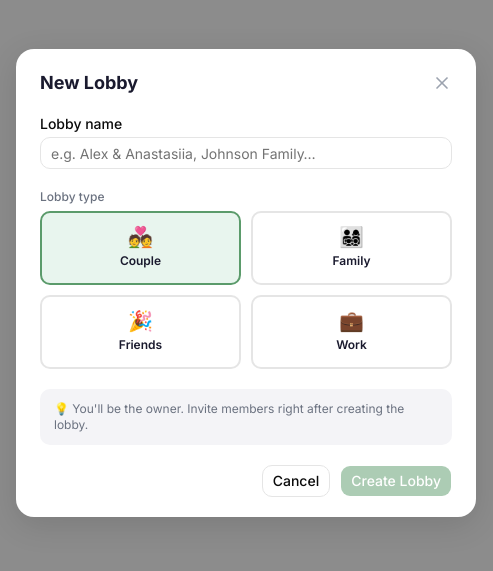
Test: CreateLobbyModal › shows an inline error and keeps the modal open when the name is rejected (400)
The width and height of the screenshot is (493, 571).
Step 1. Type "   ok   " into the field labelled "Lobby name" → (246, 153), box [40,137,452,169]
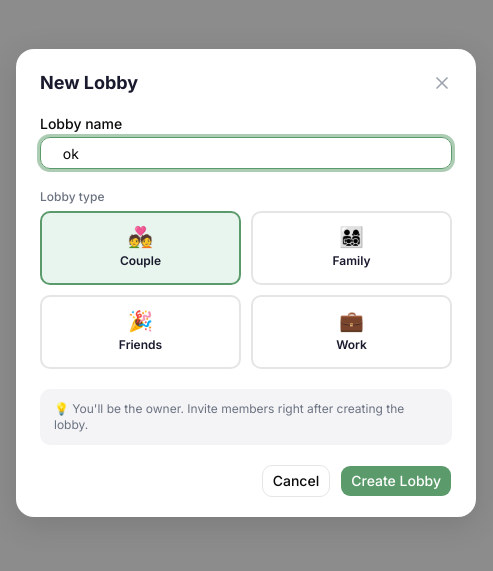
Step 2. Click the button "Create Lobby" → (396, 481), box [340,465,452,497]
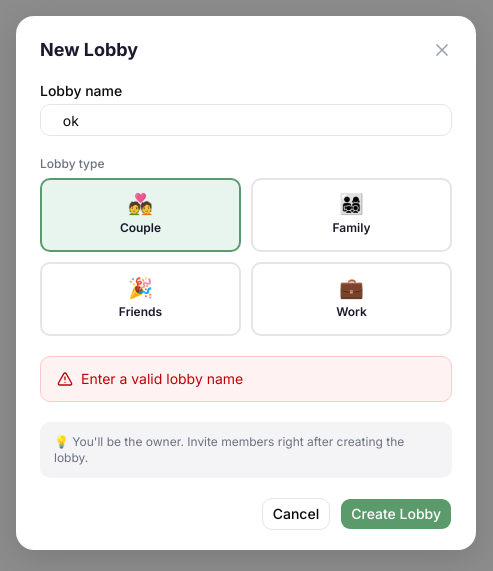
Expected: the message reads "Enter a valid lobby name", [81,370,243,387]
